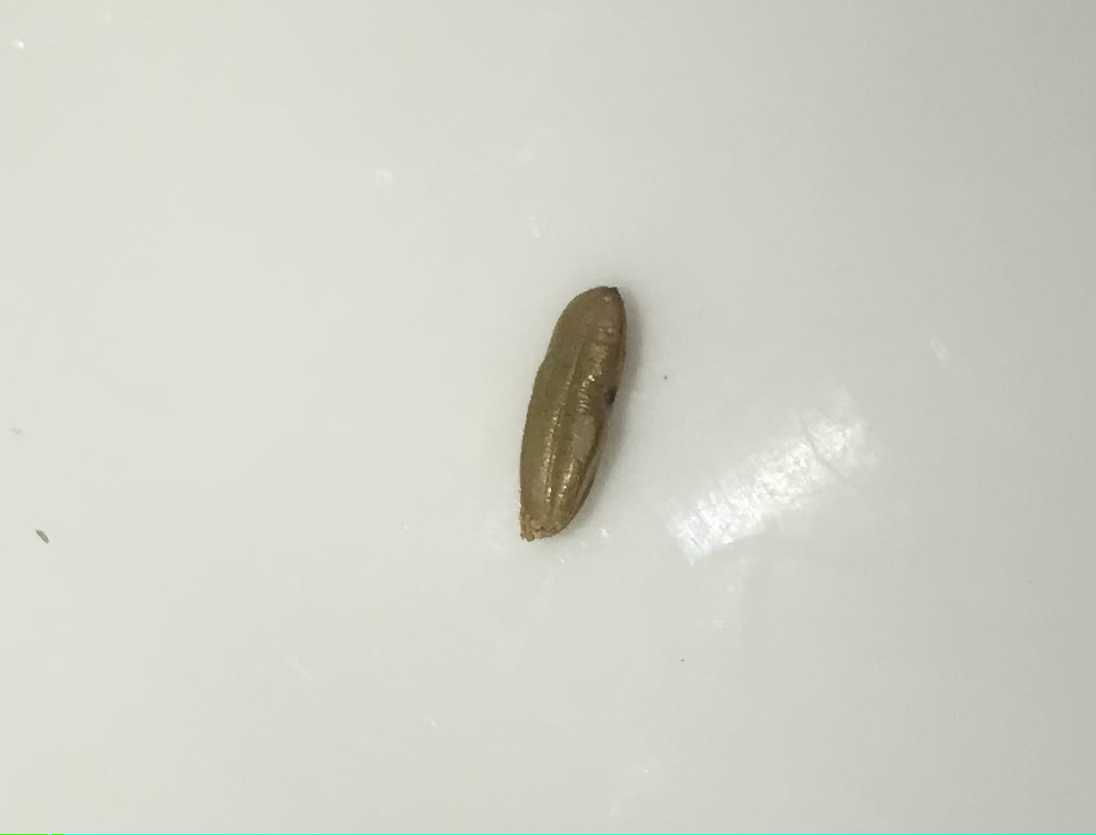Gao Lut Dien Bien: (489, 276, 658, 547)
